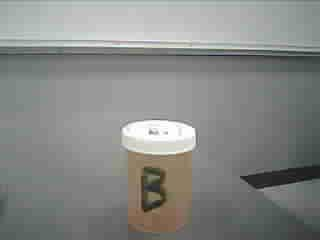Bottle B: (114, 116, 206, 237)
